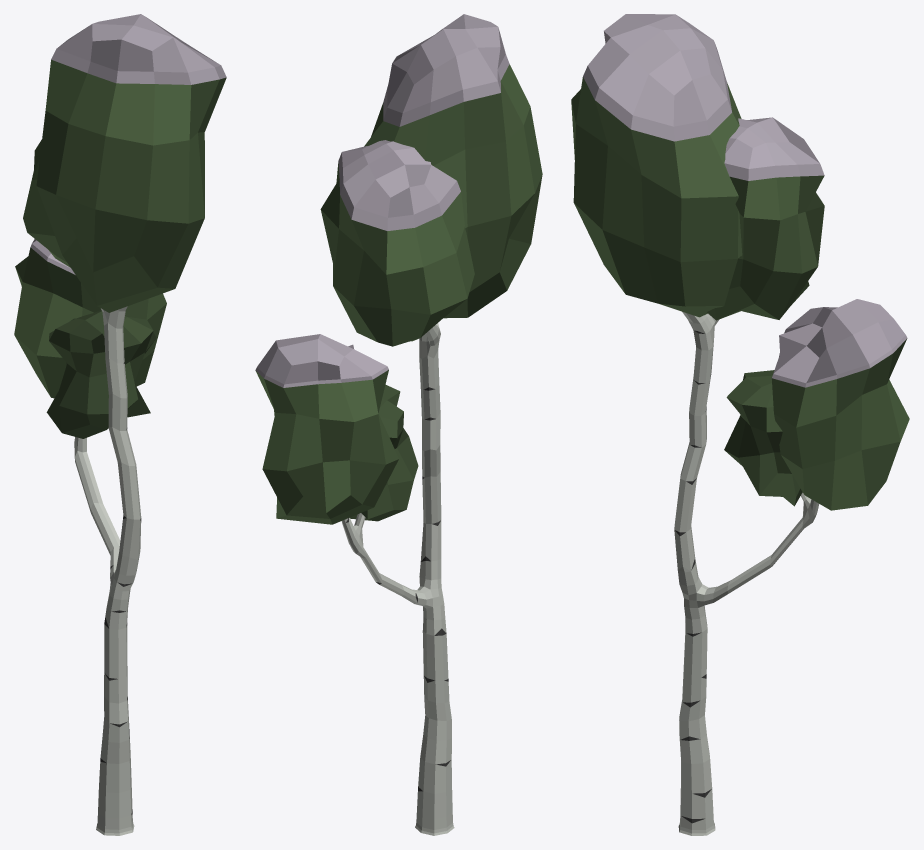
3 views of the same model, side by side, from view 1: azimuth 30°, elevation 25°; view 2: azimuth 150°, elevation 25°; view 3: azimuth 270°, elevation 25° (orthographic). The views are drawn at different scales.
Parts seen in each view (by area): view 1: BirchTree_Snow_5; view 2: BirchTree_Snow_5; view 3: BirchTree_Snow_5.
Boxes of the visible parts, x1=… form: BirchTree_Snow_5: x1=14, y1=14, x2=226, y2=835; BirchTree_Snow_5: x1=255, y1=14, x2=542, y2=835; BirchTree_Snow_5: x1=571, y1=14, x2=909, y2=835.
Size of the model in its own units: 1.19 by 5.06 by 1.93.
